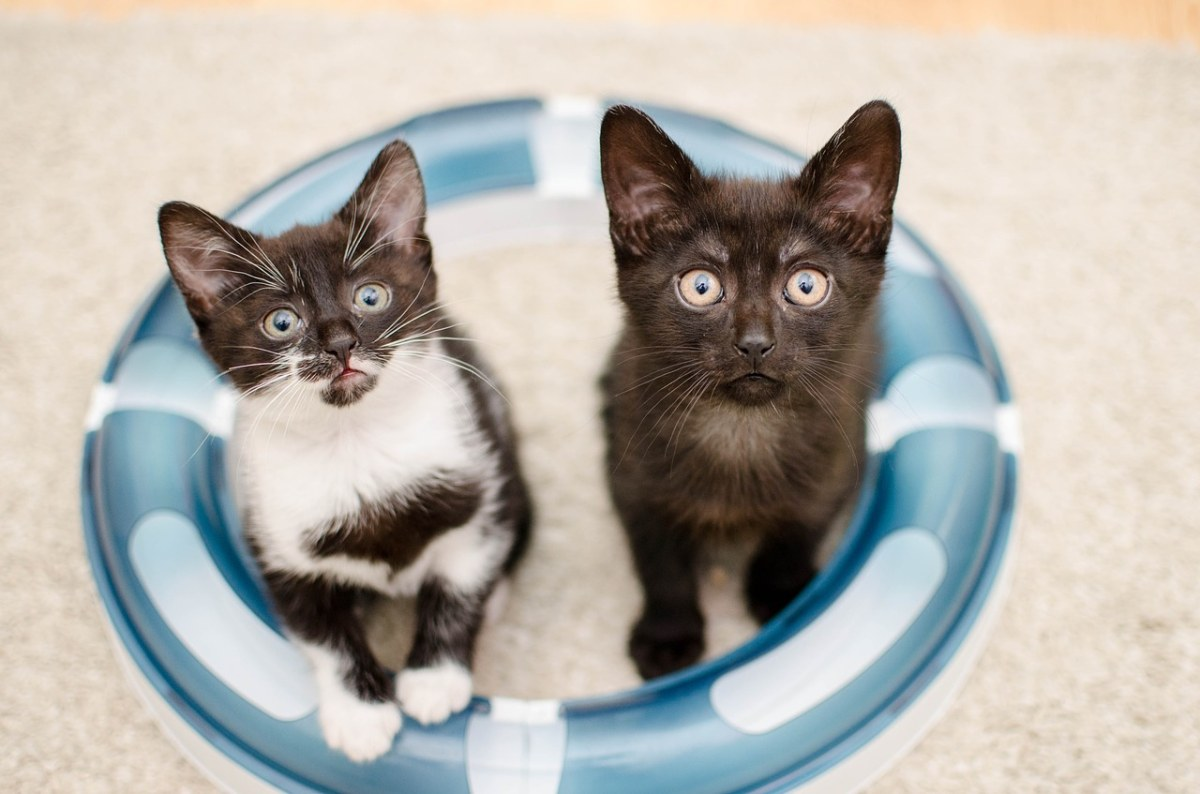cat: (157, 137, 533, 760), (588, 97, 896, 685)
